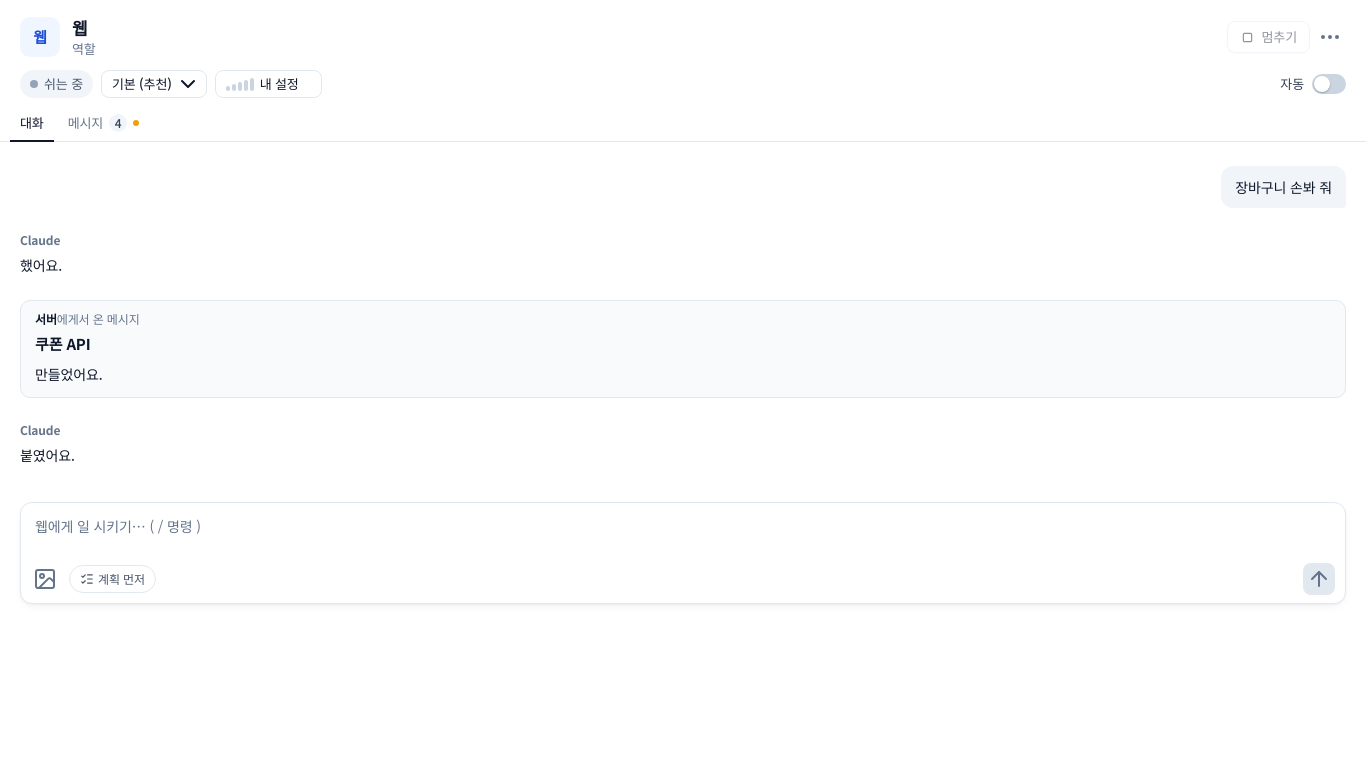
Test case: 메시지 탭 › 새것부터 한 줄씩 — 내 확인 필요는 펼친 채 [일 시키기], 나중에는 접기
The image size is (1366, 768).
Click the tab "메시지 4". click: (103, 124)
box: [58, 106, 149, 142]
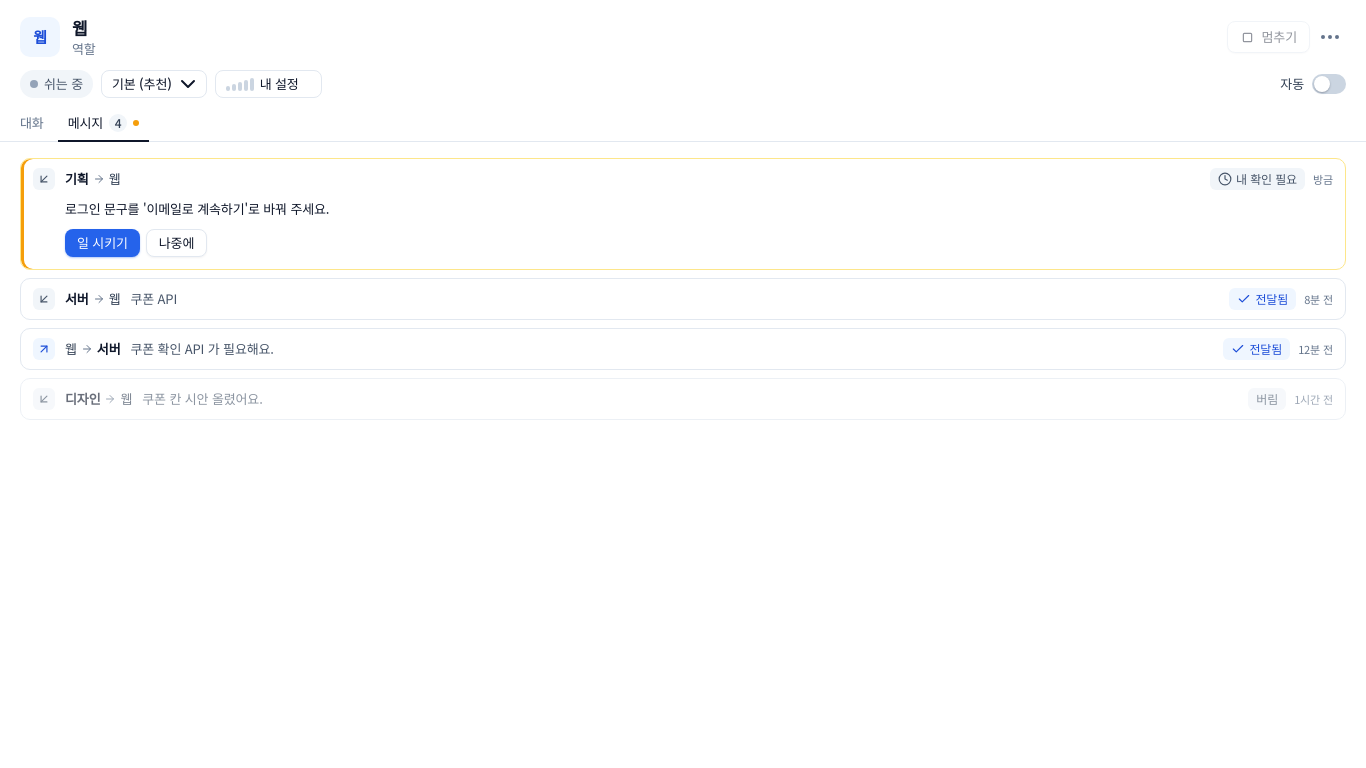
Expected: the number of list items is 4, [20, 158, 1346, 270]; [20, 278, 1346, 320]; [20, 328, 1346, 370]; [20, 378, 1346, 420]
Click the button "일 시키기". click: (102, 243)
box: [65, 229, 140, 257]
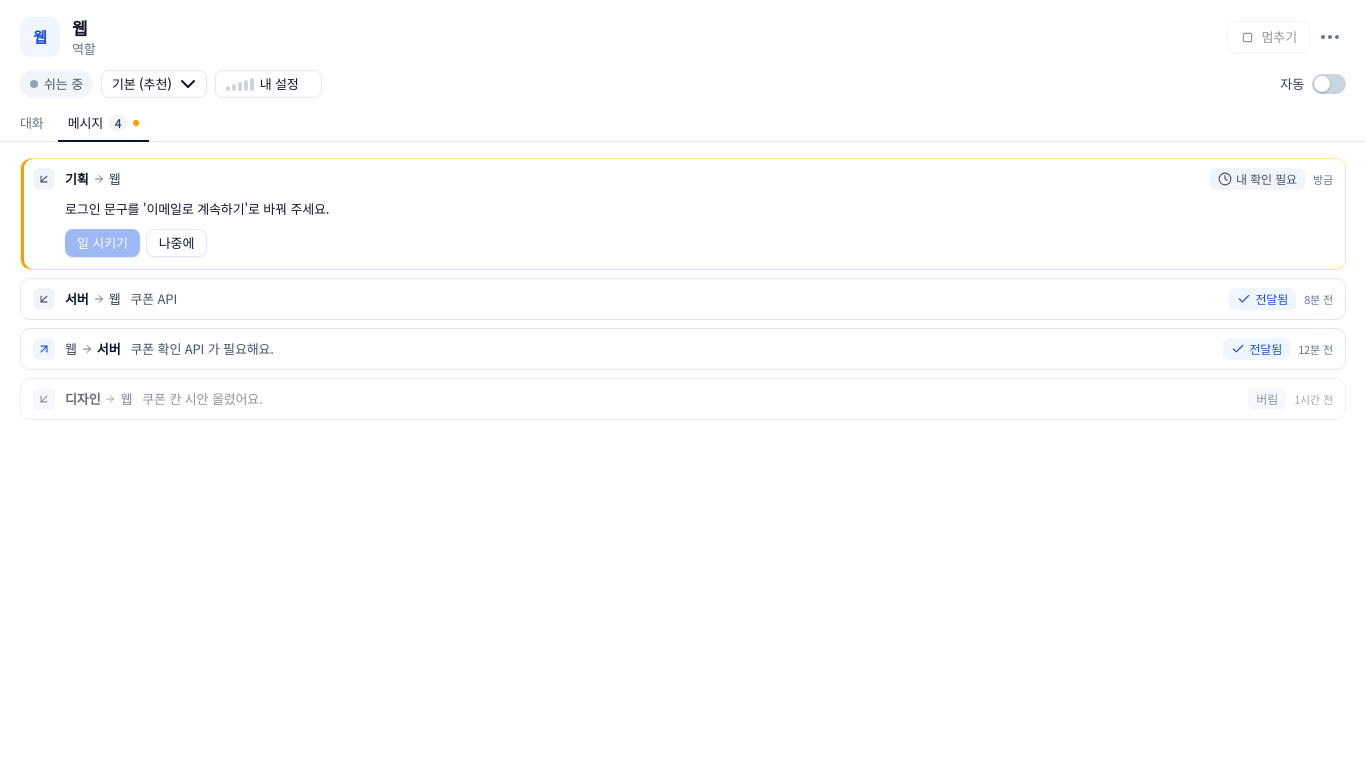
Click the button "나중에". click: (177, 243)
box: [146, 229, 207, 257]
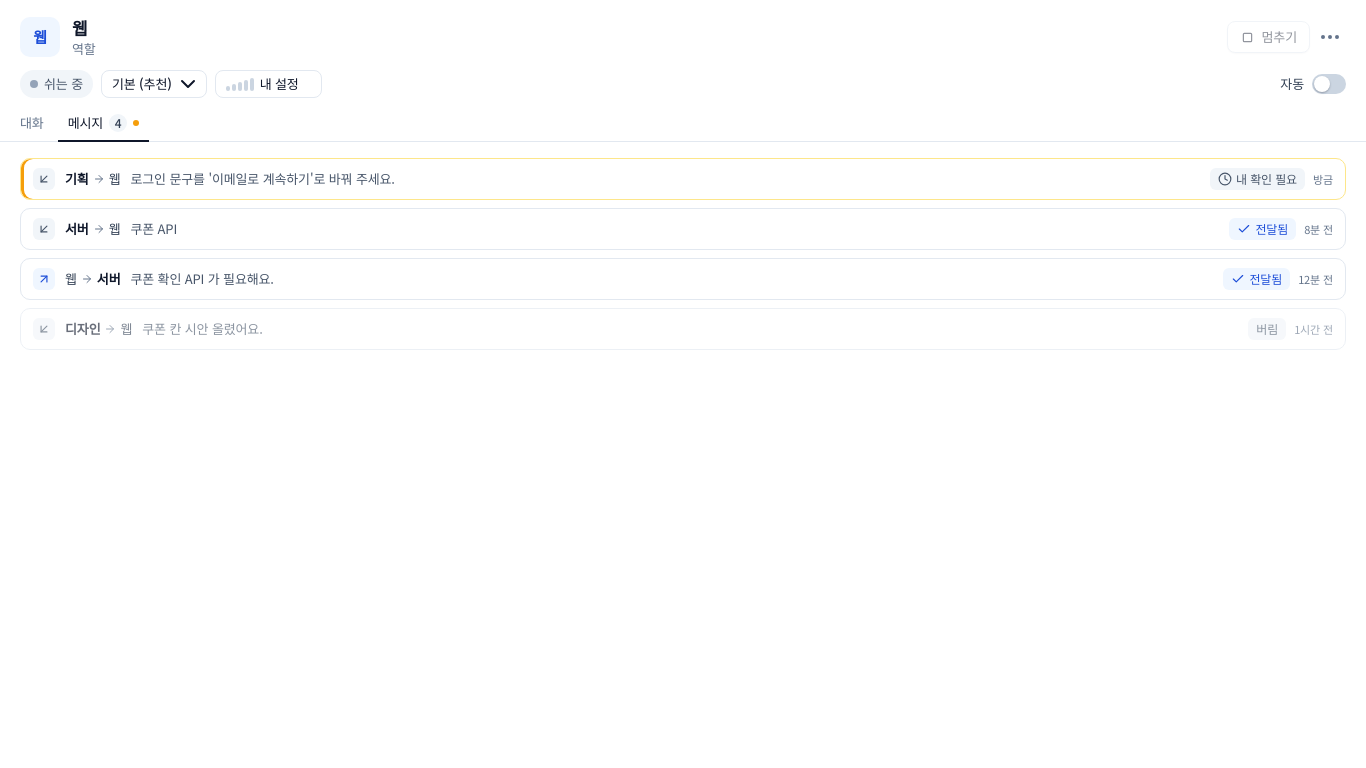
Expected: the button with class "mrow-tg" is collapsed, [21, 159, 1202, 199]
Click the button with class "mrow-tg" showing "서버 웹 쿠폰 API". click: (154, 228)
box: [21, 209, 1221, 249]
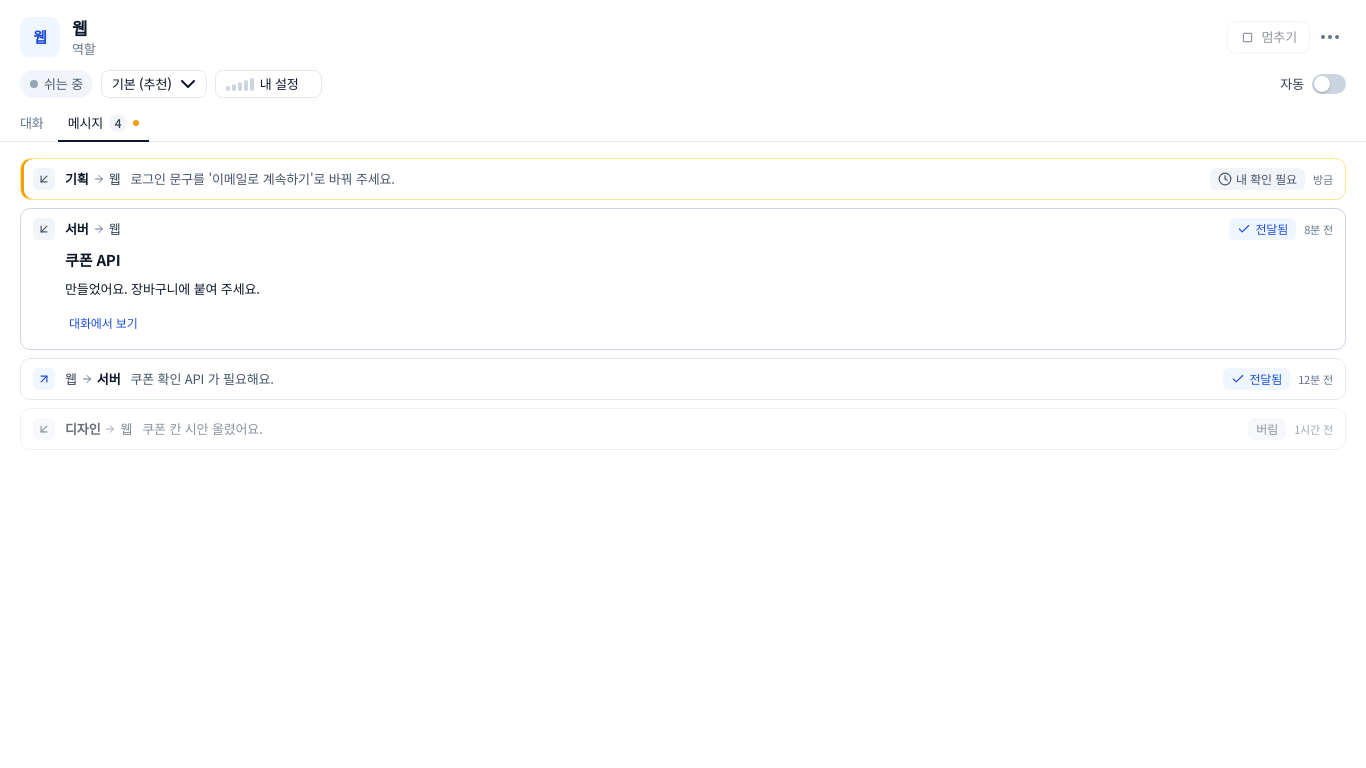
Expected: the heading "쿠폰 API" is shown, [65, 249, 120, 270]
Expected: the button with class "mrow-tg" is expanded, [21, 209, 1221, 249]
